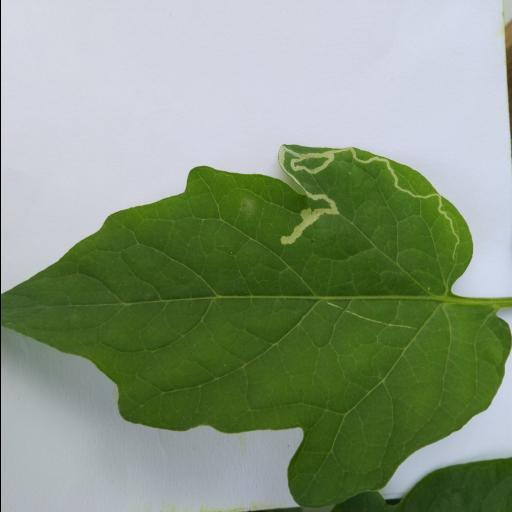Leaf Miner: (0, 140, 512, 512)
